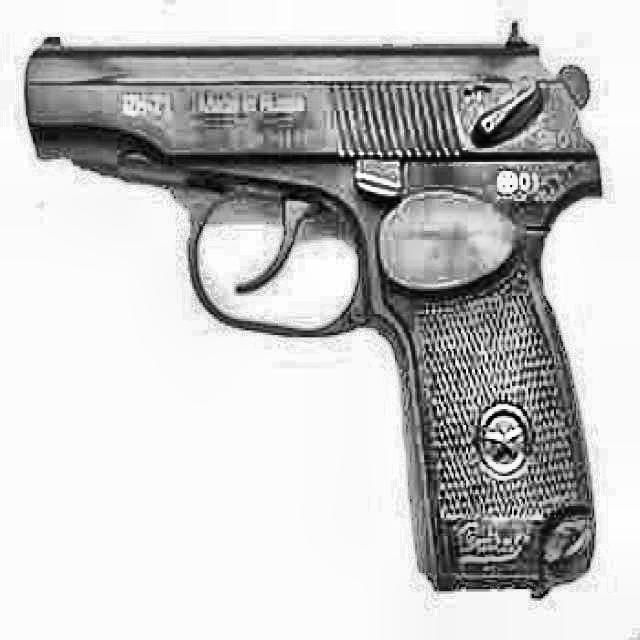pistol: (16, 25, 612, 607)
